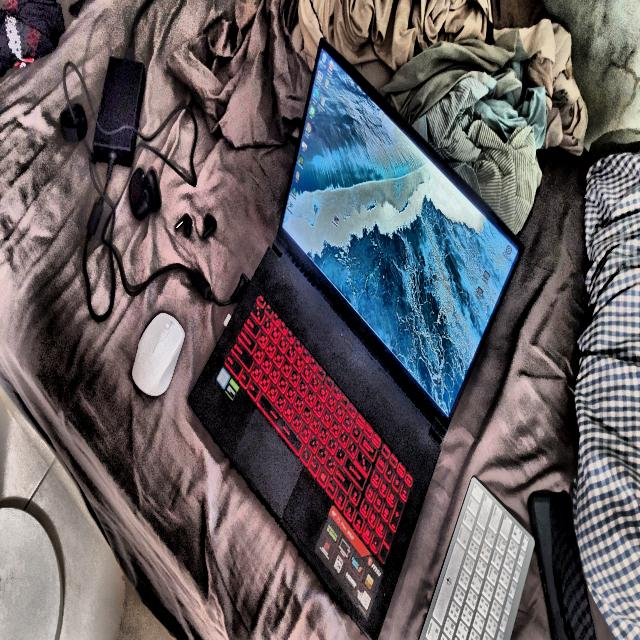laptop: (189, 41, 522, 638)
